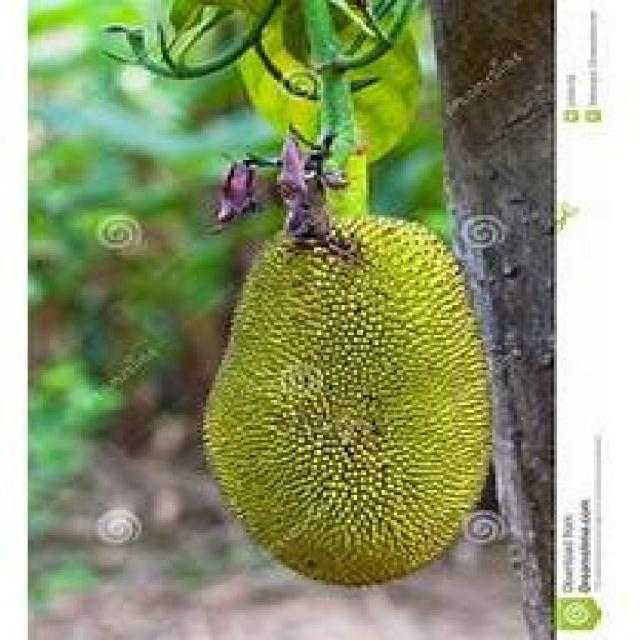Fruit: (166, 202, 523, 628)
